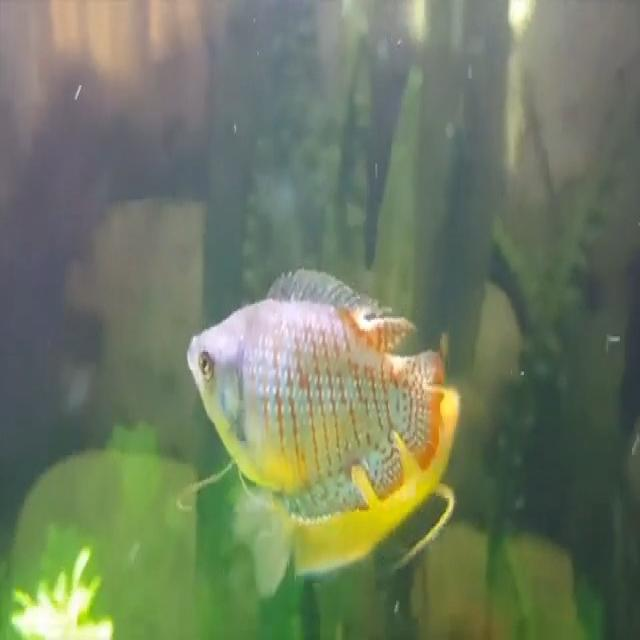fish: (188, 262, 450, 526)
